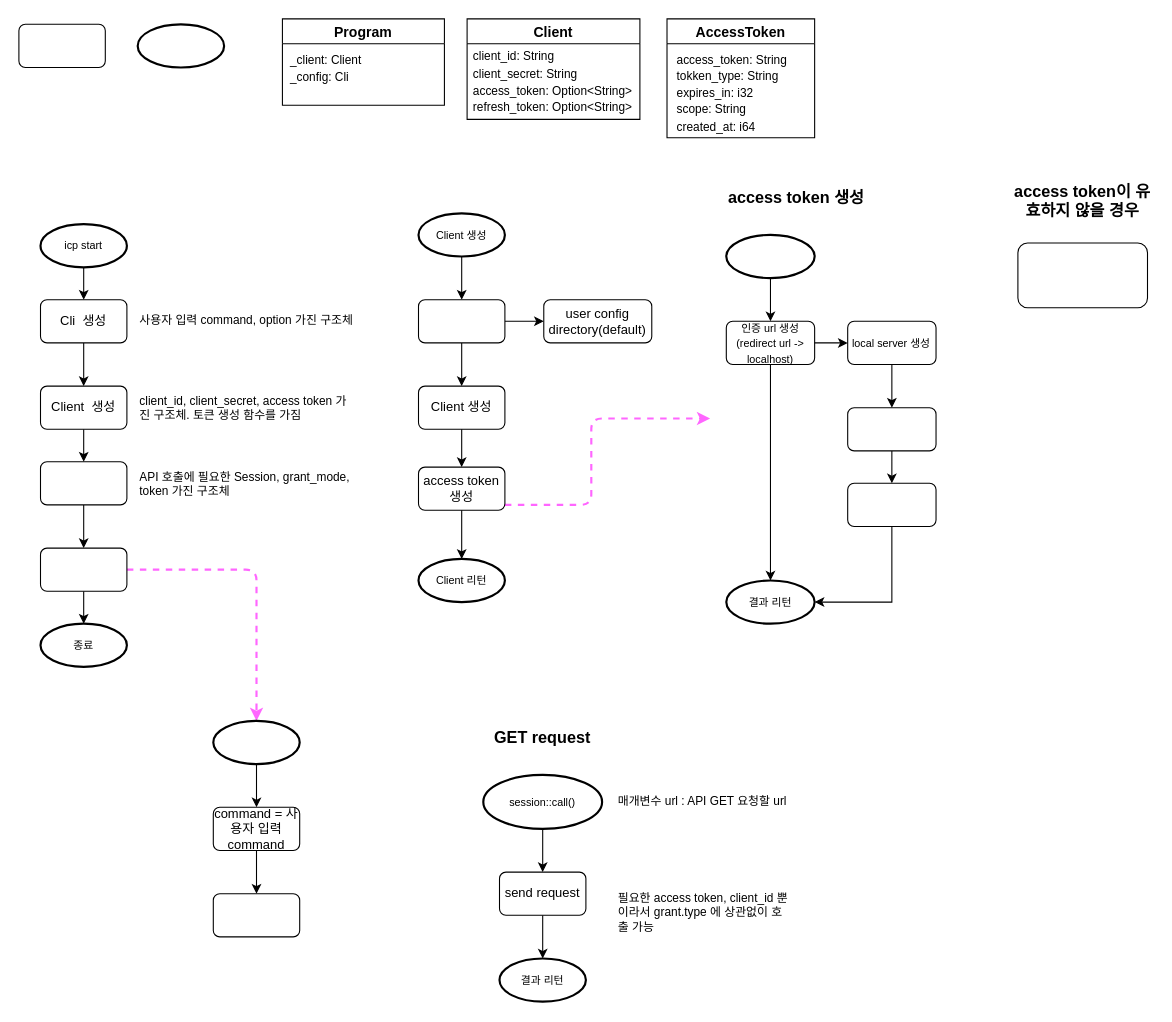
The diagram is 1172 pixels wide and 1022 high, and some of its shapes have lost their labels. Each missing label, with the centre of its shape:
code grant: point (770, 256)
code 획득: point (891, 429)
code로 access token 요청: point (891, 504)
Program 생성: point (83, 483)
Program::run(): point (83, 569)
read config.toml: point (461, 321)
refresh token 이용해 access token 재발급: point (1082, 275)
run(): point (256, 742)
Session 생성: point (180, 45)
함수 실행: point (256, 915)
